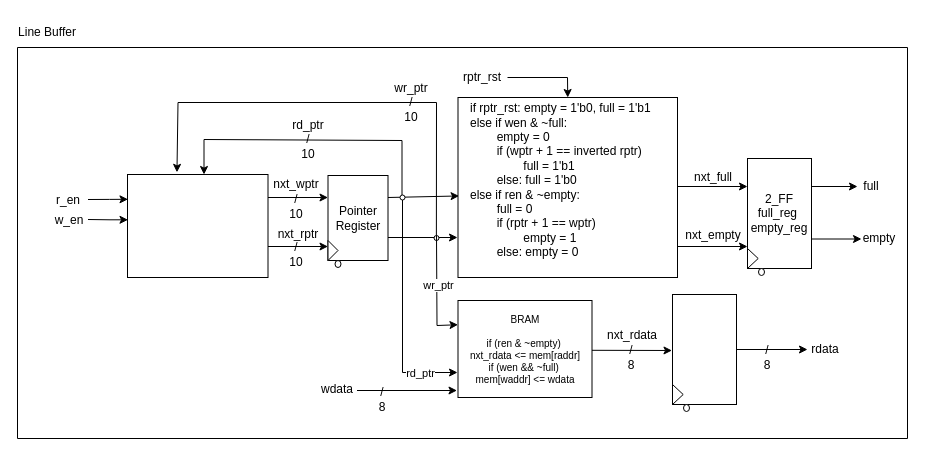
This 927x456 diagram has some shape labels left out. Each missing label, with the centre of its shape:
"if (w_en && ~full) nxt_wptr = wptr++ if (r_en && ~empty) nxt_rpt = rptr++" goes at point (197, 226).
"rdata_reg" goes at point (704, 349).
